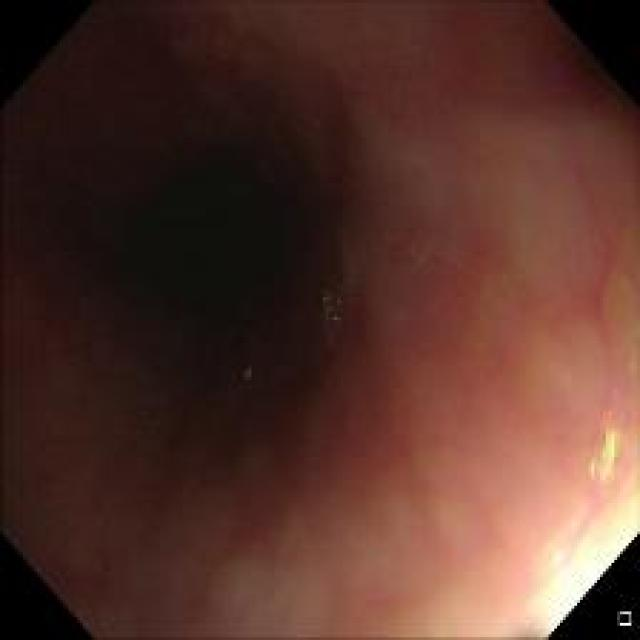color misalignment: (555, 404, 622, 494), (320, 272, 346, 328)
contrast: (80, 82, 429, 542)
saturation: (522, 501, 632, 625)
